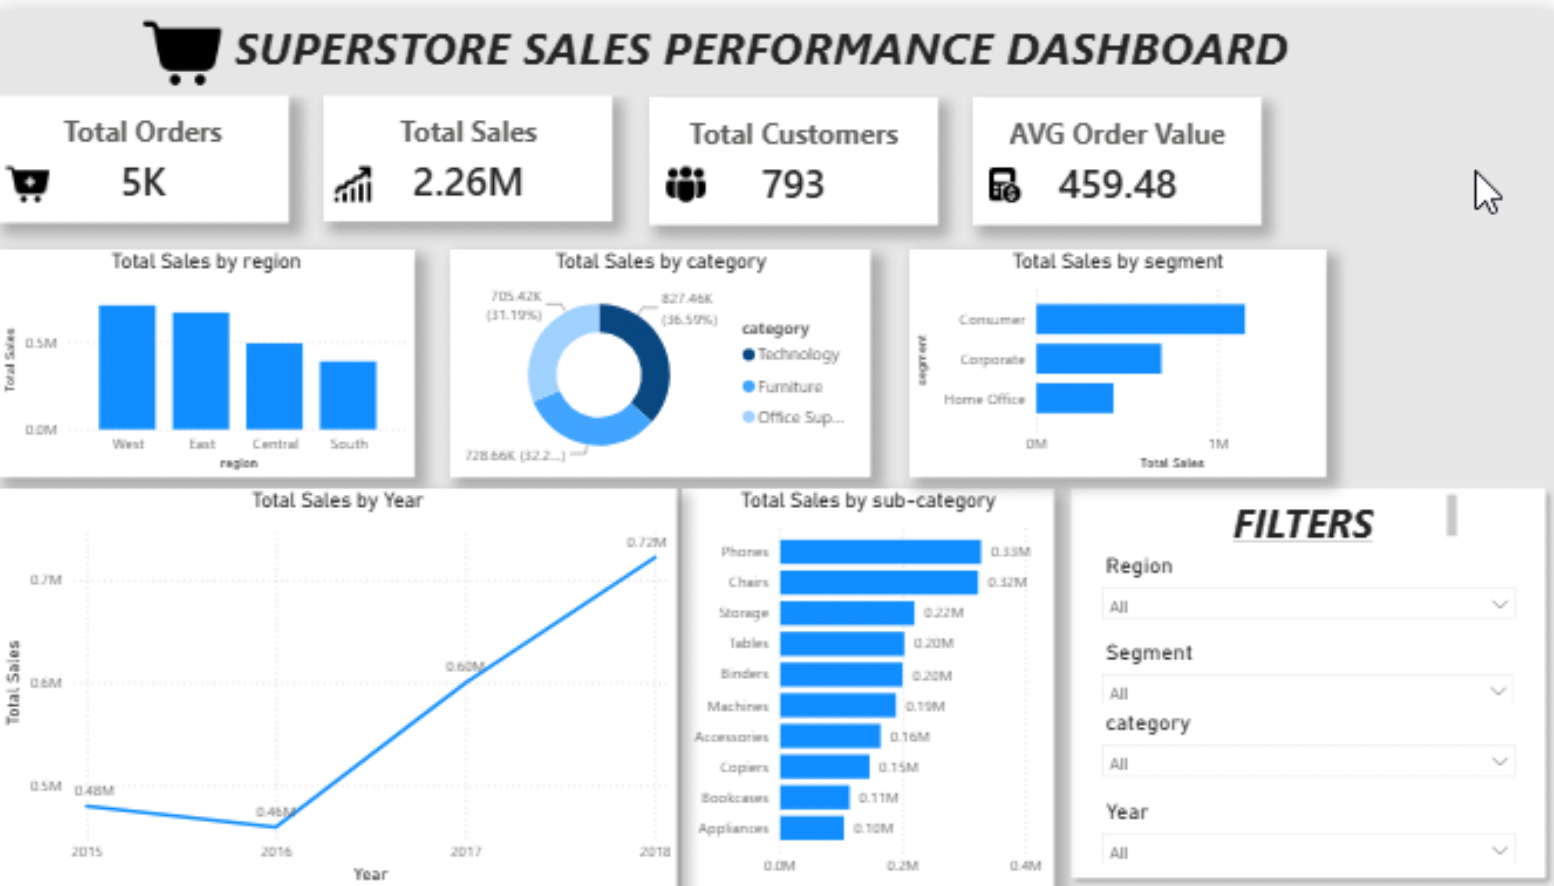

The dashboard page shown, as its layout file describes it:
{"tool":"powerbi","page":{"name":"Page 1","canvas":[1280,720],"ordinal":0},"visuals":[{"type":"shape","box":[871.9,381.9,408.1,338.3],"z":0},{"type":"cardVisual","fields":{"Data":["Superstore_SD_clean.Total Orders"]},"box":[0,69.8,238.5,104.7],"z":1000},{"type":"cardVisual","fields":{"Data":["Superstore_SD_clean.Total Customers"]},"box":[533.9,71.3,237.1,104.7],"z":2000},{"type":"cardVisual","fields":{"Data":["Superstore_SD_clean.Total Sales"]},"box":[267.6,69.7,237.3,104.5],"z":3000},{"type":"cardVisual","fields":{"Data":["Superstore_SD_clean.Average Order Value"]},"box":[800,71.3,237.1,104.7],"z":4000},{"type":"clusteredColumnChart","fields":{"Category":["Superstore_SD_clean.region"],"Y":["Superstore_SD_clean.Total Sales"]},"box":[0,195.3,341.8,186.6],"z":5000},{"type":"donutChart","fields":{"Category":["Superstore_SD_clean.category"],"Y":["Superstore_SD_clean.Total Sales"]},"box":[371.4,195.3,345.3,186.6],"z":6000},{"type":"clusteredBarChart","fields":{"Category":["Superstore_SD_clean.sub-category"],"Y":["Superstore_SD_clean.Total Sales"]},"box":[562,392.4,305.2,327.8],"z":7000},{"type":"clusteredBarChart","fields":{"Category":["Superstore_SD_clean.segment"],"Y":["Superstore_SD_clean.Total Sales"]},"box":[748.1,195.3,341.8,186.6],"z":8000},{"type":"lineChart","fields":{"Category":["Superstore_SD_clean.order date.Variation.Date Hierarchy.Year"],"Y":["Superstore_SD_clean.Total Sales"]},"box":[0,391.8,557.3,328.7],"z":9000},{"type":"actionButton","box":[0,0,100,40],"z":10000},{"type":"textbox","box":[0,0,1064.5,69.7],"z":11000},{"type":"slicer","fields":{"Values":["Superstore_SD_clean.region"]},"box":[896.3,439.5,359.2,71.5],"z":12000},{"type":"slicer","fields":{"Values":["Superstore_SD_clean.segment"]},"box":[896.3,511,357.5,78.5],"z":13000},{"type":"slicer","fields":{"Values":["Superstore_SD_clean.category"]},"box":[896.3,568.5,359.2,73.2],"z":14000},{"type":"textbox","box":[918.6,391.8,289.5,47.9],"z":15000},{"type":"image","box":[65.3,0,172,69.7],"z":16000},{"type":"image","box":[544,123.6,40.7,39.3],"z":17000},{"type":"image","box":[0,123.6,49.5,39.3],"z":18000},{"type":"image","box":[807.3,123.6,33.5,39.3],"z":19000},{"type":"image","box":[267.6,123.6,48,39.3],"z":20000},{"type":"slicer","fields":{"Values":["Superstore_SD_clean.order date.Variation.Date Hierarchy.Year"]},"box":[896.3,641.7,359.2,57.5],"z":21000}]}

Visuals, with their boxes in screenshot pixels (x1, y1, x2, y2), scaled from the page's 1280x720 canvas onto the 1554x886 screenshot:
shape: (1059, 470, 1553, 885)
cardVisual - Superstore_SD_clean.Total Orders: (0, 86, 290, 215)
cardVisual - Superstore_SD_clean.Total Customers: (648, 88, 936, 217)
cardVisual - Superstore_SD_clean.Total Sales: (325, 86, 613, 214)
cardVisual - Superstore_SD_clean.Average Order Value: (971, 88, 1259, 217)
clusteredColumnChart - Superstore_SD_clean.region x Superstore_SD_clean.Total Sales: (0, 240, 415, 470)
donutChart - Superstore_SD_clean.category x Superstore_SD_clean.Total Sales: (451, 240, 870, 470)
clusteredBarChart - Superstore_SD_clean.sub-category x Superstore_SD_clean.Total Sales: (682, 483, 1053, 885)
clusteredBarChart - Superstore_SD_clean.segment x Superstore_SD_clean.Total Sales: (908, 240, 1323, 470)
lineChart - Superstore_SD_clean.order date.Variation.Date Hierarchy.Year x Superstore_SD_clean.Total Sales: (0, 482, 677, 885)
actionButton: (0, 0, 121, 49)
textbox: (0, 0, 1292, 86)
slicer - Superstore_SD_clean.region: (1088, 541, 1524, 629)
slicer - Superstore_SD_clean.segment: (1088, 629, 1522, 725)
slicer - Superstore_SD_clean.category: (1088, 700, 1524, 790)
textbox: (1115, 482, 1467, 541)
image: (79, 0, 288, 86)
image: (660, 152, 710, 200)
image: (0, 152, 60, 200)
image: (980, 152, 1021, 200)
image: (325, 152, 383, 200)
slicer - Superstore_SD_clean.order date.Variation.Date Hierarchy.Year: (1088, 790, 1524, 860)
